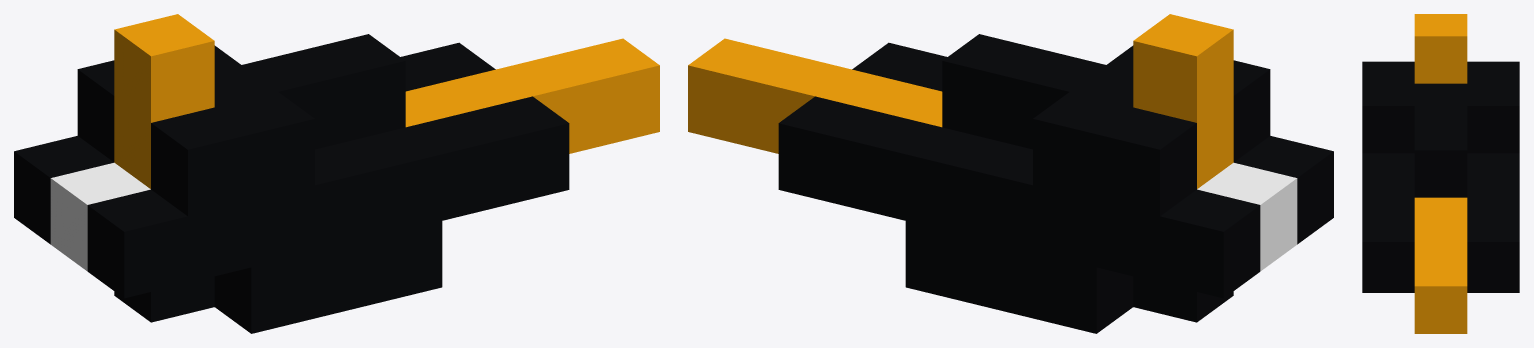
File: BlasterFighterProjectileSmall1.FBX
3 views of the same model, side by side, from view 1: azimuth 30°, elevation 25°; view 2: azimuth 150°, elevation 25°; view 3: azimuth 270°, elevation 25° (orthographic). The views are drawn at different scales.
Visible parts, largest first — view 1: BlasterFighterProjectileSmall1; view 2: BlasterFighterProjectileSmall1; view 3: BlasterFighterProjectileSmall1.
Part boxes in pixels (x1,y1,x2,y2): BlasterFighterProjectileSmall1: (14,14,659,333); BlasterFighterProjectileSmall1: (688,14,1333,333); BlasterFighterProjectileSmall1: (1362,14,1519,333).
Bounding box in the file's own units: 9 × 3 × 4.
